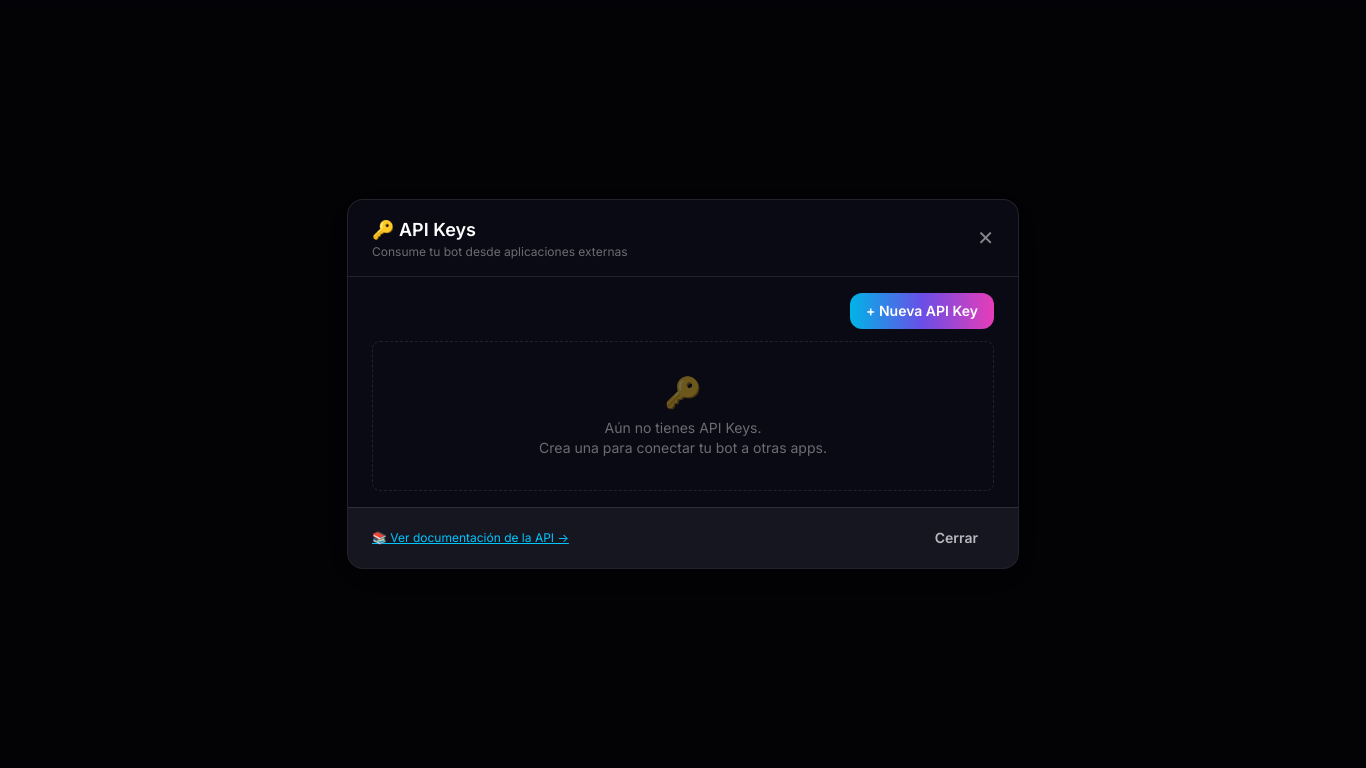
Test: ApiKeysPanel › Crear API Key › click "+ Nueva API Key" abre modal crear
Click the button "+ Nueva API Key" at (922, 311), box [850, 293, 994, 329]
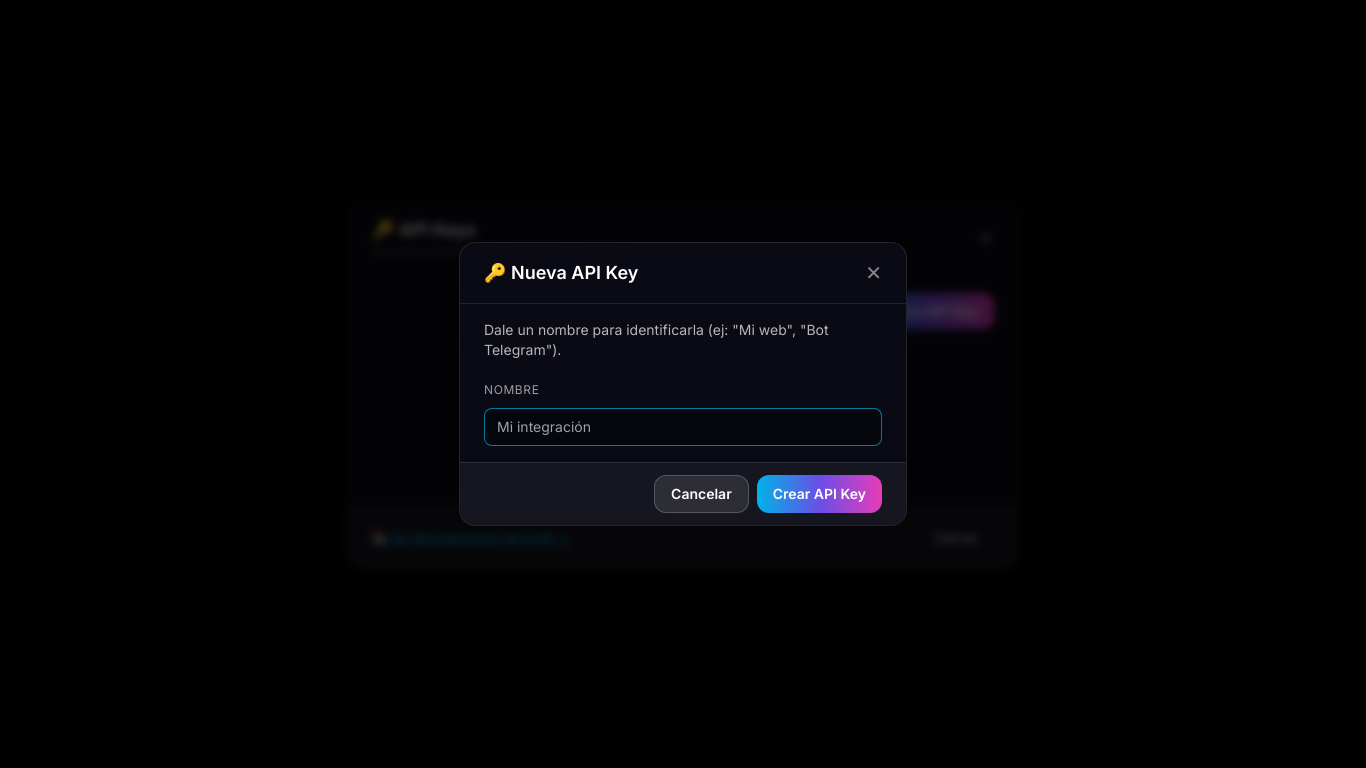
Expected: the field with placeholder "Mi integración" is shown, [484, 408, 882, 446]
